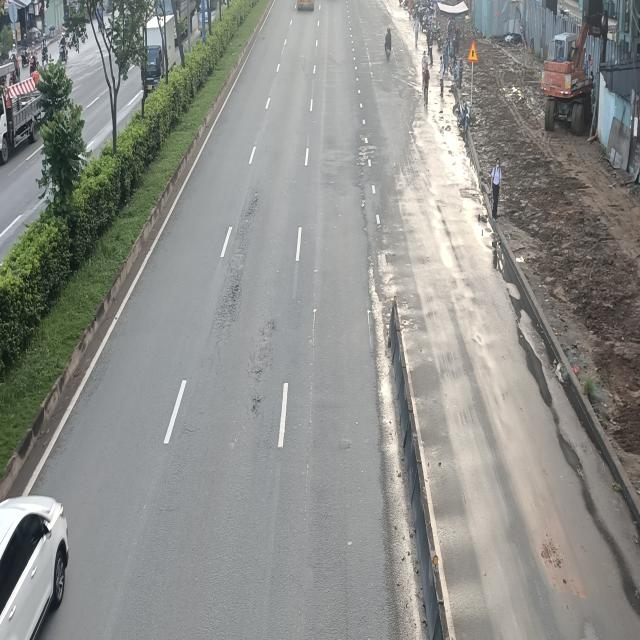car: (0, 491, 69, 638)
